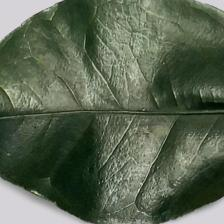healthy: (3, 6, 224, 195)
